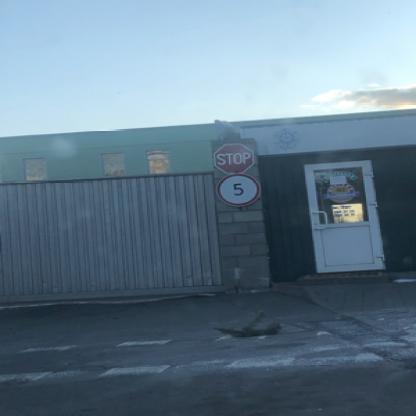speedlimit: (218, 173, 258, 205)
stop: (212, 142, 252, 172)
